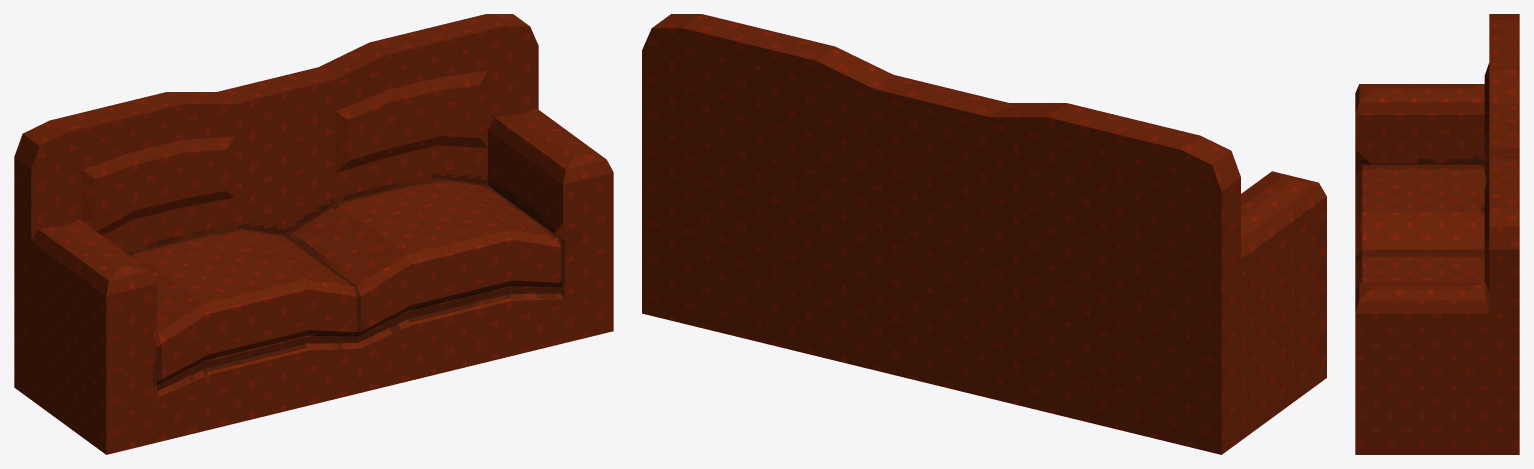
Rendered from Sofa.glb.
The picture shows the model from 3 angles, left to right: view 1: azimuth 30°, elevation 25°; view 2: azimuth 150°, elevation 25°; view 3: azimuth 270°, elevation 25°; orthographic projection. The views are drawn at different scales.
Visible parts, largest first — view 1: Sofa; view 2: Sofa; view 3: Sofa.
Boxes of the visible parts, x1=… form: Sofa: x1=14, y1=14, x2=613, y2=454; Sofa: x1=642, y1=14, x2=1326, y2=454; Sofa: x1=1355, y1=14, x2=1519, y2=454.
Size of the model in its own units: 6.36 by 3.09 by 2.
1 material, 1 textured.
